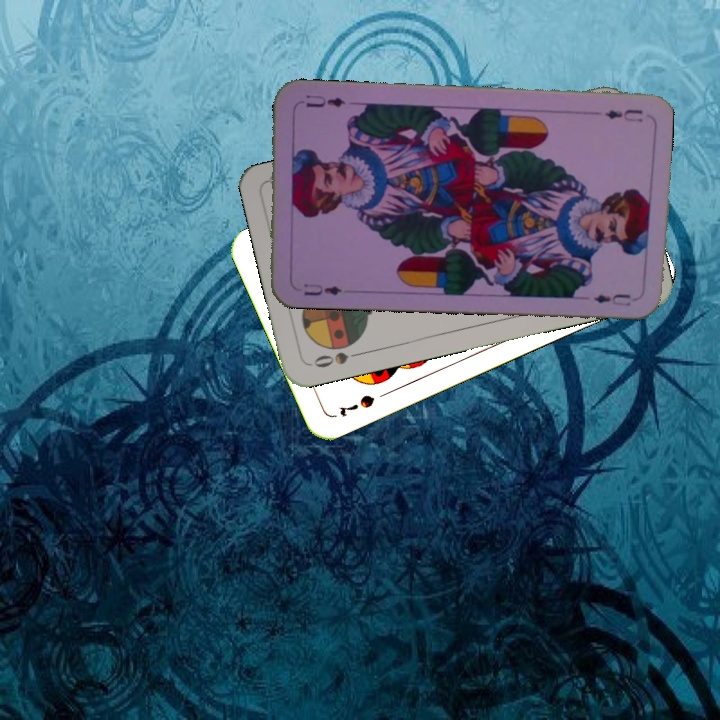EU: (299, 279, 344, 299), (601, 105, 646, 125)
S7: (335, 390, 377, 419)
SO: (306, 348, 364, 371)
